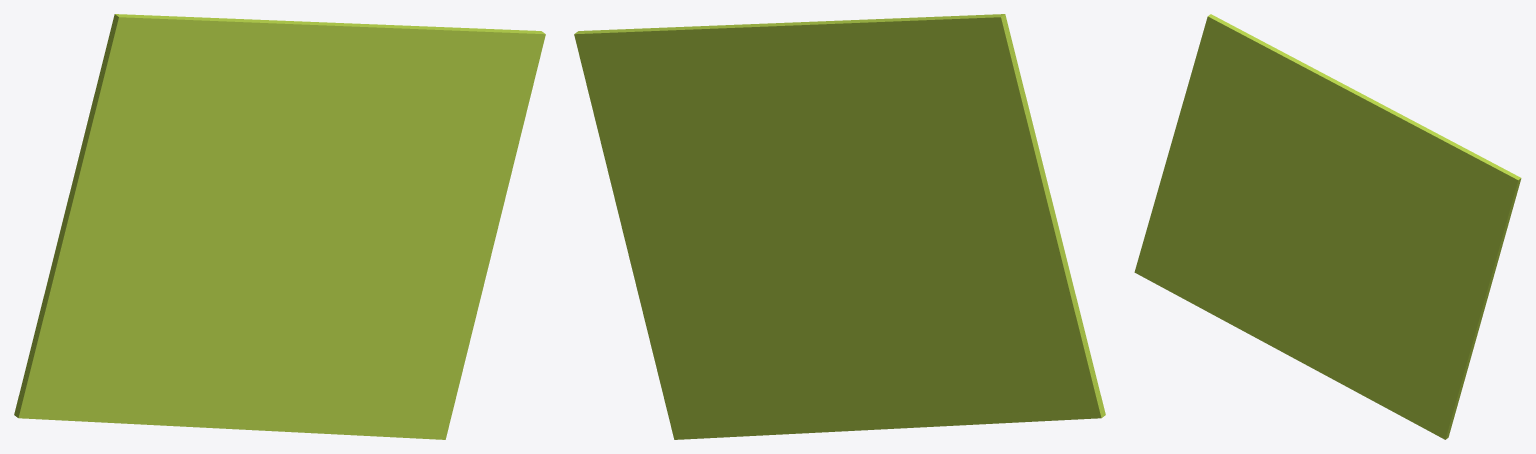
The picture shows the model from 3 angles, left to right: view 1: azimuth 30°, elevation 25°; view 2: azimuth 150°, elevation 25°; view 3: azimuth 330°, elevation 25°; orthographic projection. The views are drawn at different scales.
Visible parts, largest first — view 1: osm-way27917482-F0; view 2: osm-way27917482-F0; view 3: osm-way27917482-F0.
Part boxes in pixels (x1=…): osm-way27917482-F0: x1=14, y1=14, x2=545, y2=439; osm-way27917482-F0: x1=574, y1=14, x2=1105, y2=439; osm-way27917482-F0: x1=1134, y1=14, x2=1521, y2=439.
Bounding box in the file's own units: 10.43 × 9.5 × 0.15.
